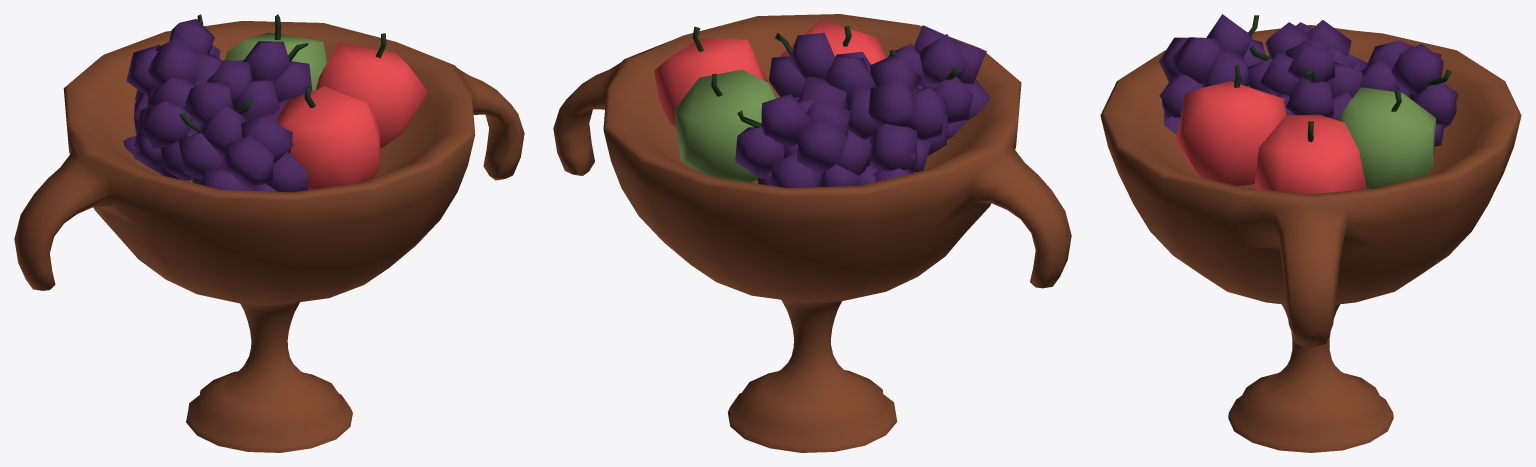
The model's file is Fruteira.fbx.
The picture shows the model from 3 angles, left to right: view 1: azimuth 30°, elevation 25°; view 2: azimuth 150°, elevation 25°; view 3: azimuth 270°, elevation 25°; orthographic projection. The views are drawn at different scales.
Visible parts, largest first — view 1: Fruteira; view 2: Fruteira; view 3: Fruteira.
Boxes of the visible parts, x1,y1,x2,y2 form: Fruteira: (14, 14, 524, 452); Fruteira: (553, 14, 1071, 452); Fruteira: (1100, 14, 1521, 452).
Size of the model in its own units: 75.15 by 54.33 by 55.51.
